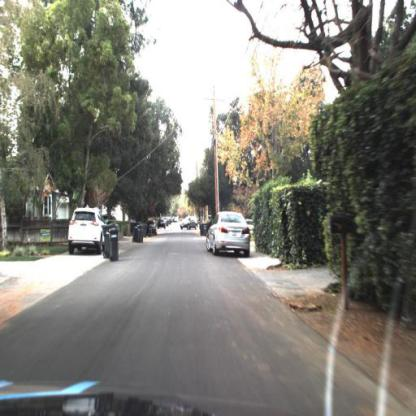car: (206, 210, 251, 258), (64, 204, 106, 252), (65, 206, 105, 256), (101, 207, 119, 231), (179, 215, 197, 230), (146, 219, 157, 234), (158, 216, 166, 231), (204, 211, 212, 221)
